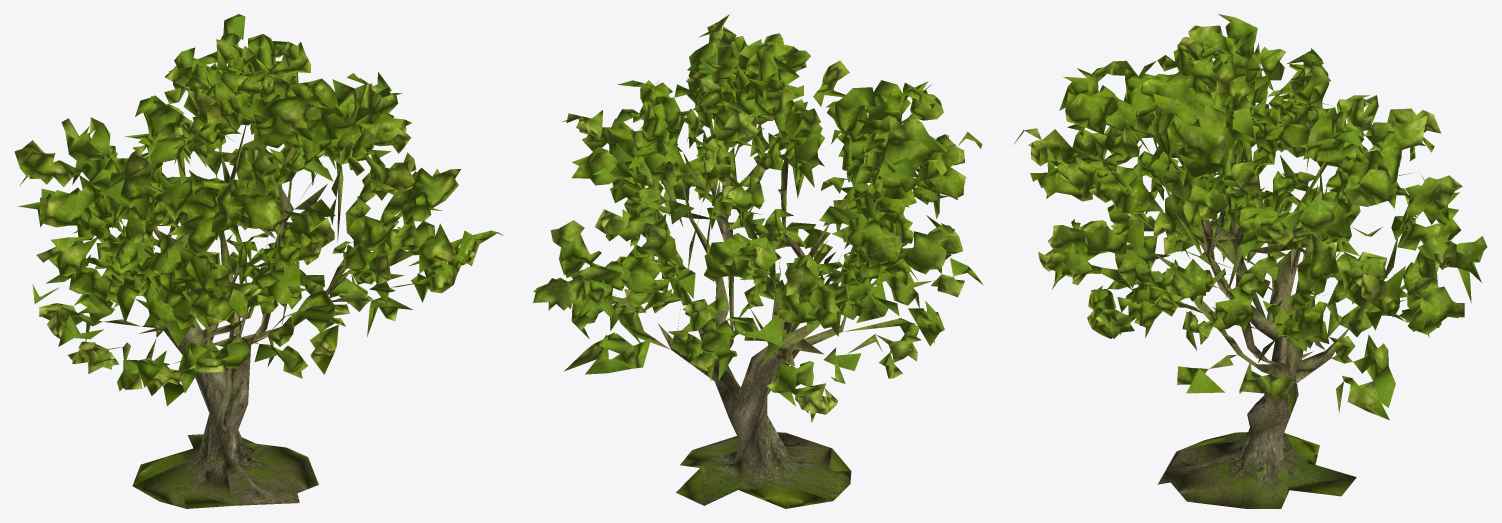
The model's file is kit_ordu_hazelnut_tree.glb.
The picture shows the model from 3 angles, left to right: view 1: azimuth 30°, elevation 25°; view 2: azimuth 150°, elevation 25°; view 3: azimuth 270°, elevation 25°; orthographic projection. The views are drawn at different scales.
Parts seen in each view (by area): view 1: Mesh1.0; view 2: Mesh1.0; view 3: Mesh1.0.
Part boxes in pixels (x1,y1,x2,y2): Mesh1.0: (14,14,503,508); Mesh1.0: (533,14,983,508); Mesh1.0: (1013,14,1487,508).
Size of the model in its own units: 4.3 by 4.5 by 4.4.
1 material, 1 textured.
